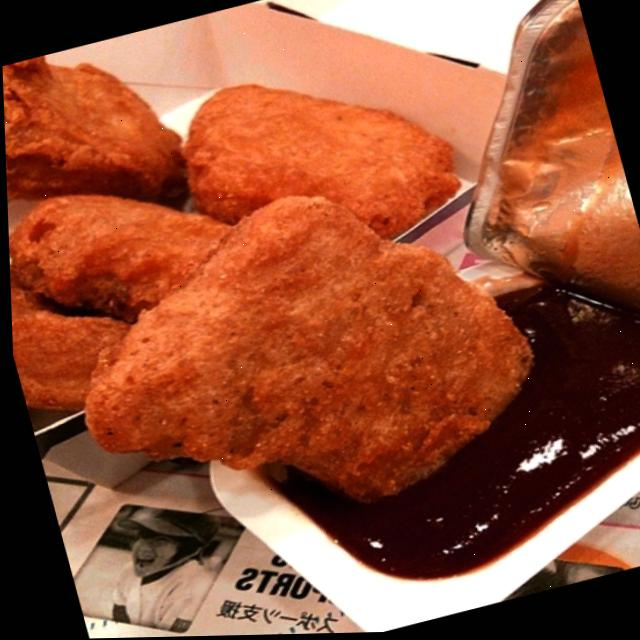鸡肉料理 含炸鸡: (0, 0, 557, 572)
